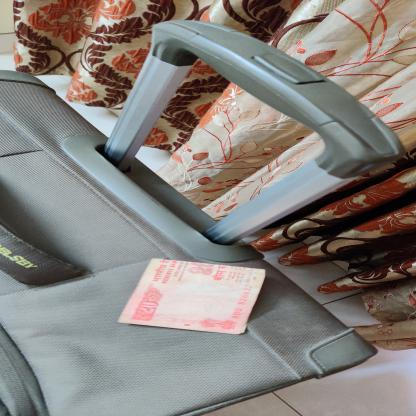Old20Front: (117, 258, 266, 334)
